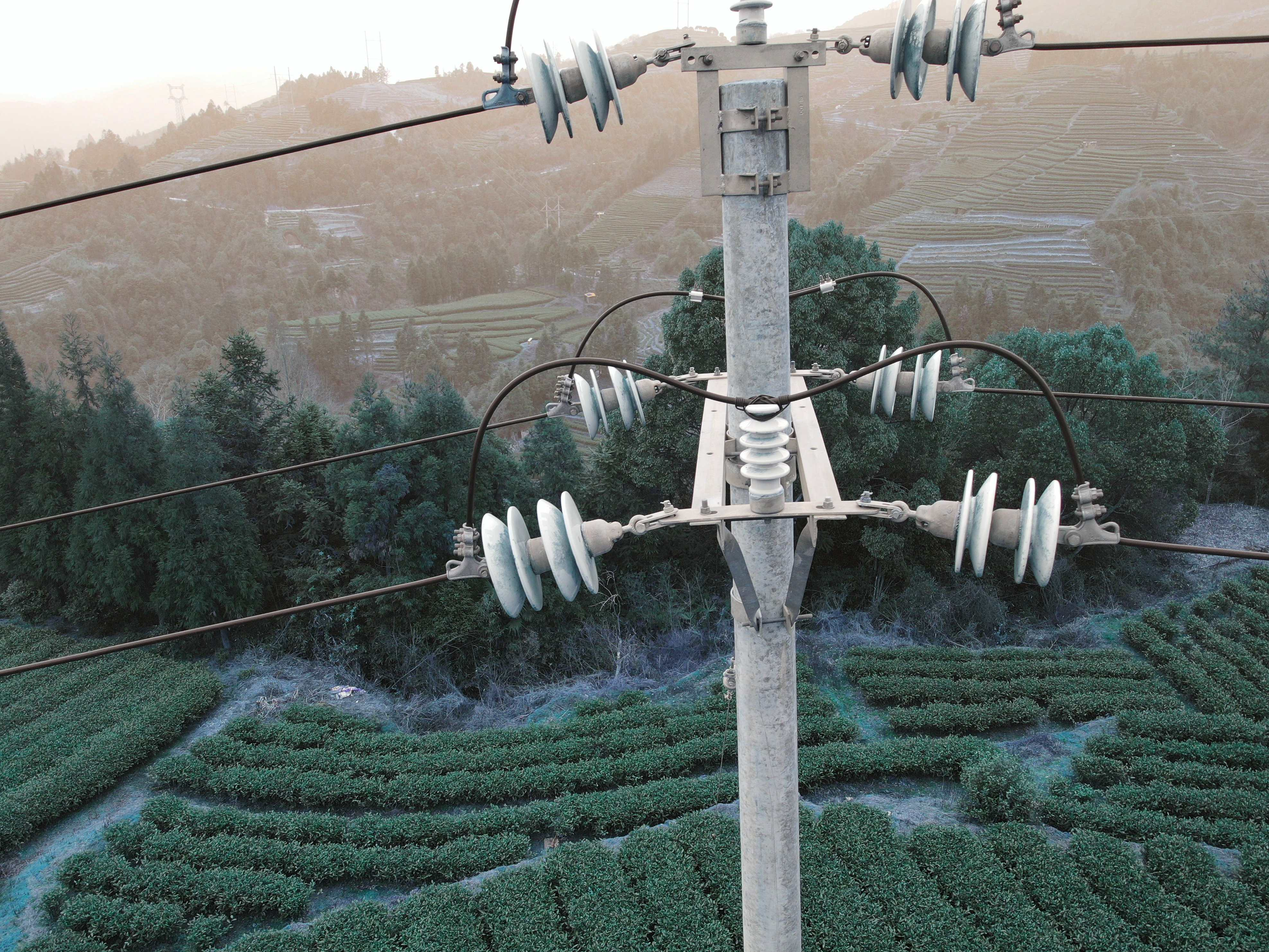severe_soiling_no_discharge_whole: (912, 469, 1067, 591), (479, 487, 622, 617), (518, 27, 650, 145), (864, 3, 989, 105), (737, 396, 795, 517), (854, 344, 943, 422), (572, 367, 660, 435)
